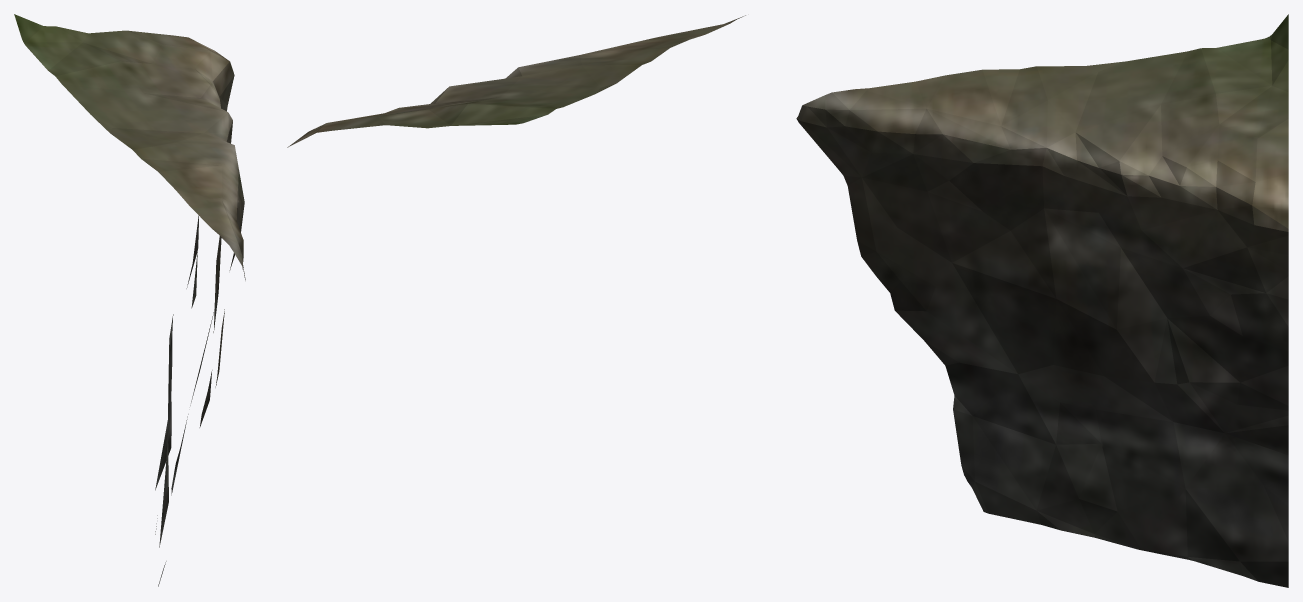
3 renders of one model, left to right at view 1: azimuth 30°, elevation 25°; view 2: azimuth 150°, elevation 25°; view 3: azimuth 270°, elevation 25°, orthographic. The views are drawn at different scales.
Bounding box in the file's own units: 0.3007 × 0.6335 × 0.5676.
Materials: 1 (1 with a texture image).
